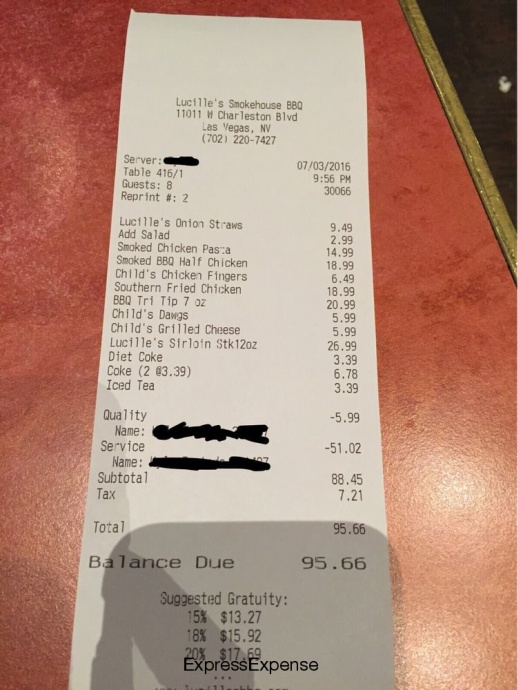Additional details: (141, 591, 299, 661)
Purchase summary: (88, 140, 383, 588)
Receipt: (72, 18, 398, 661)
Shop details: (170, 86, 313, 152)
